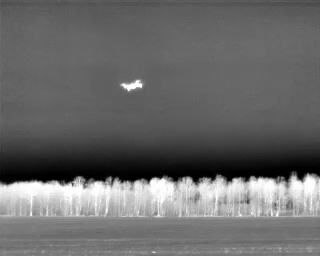DRONE: (117, 75, 148, 96)
